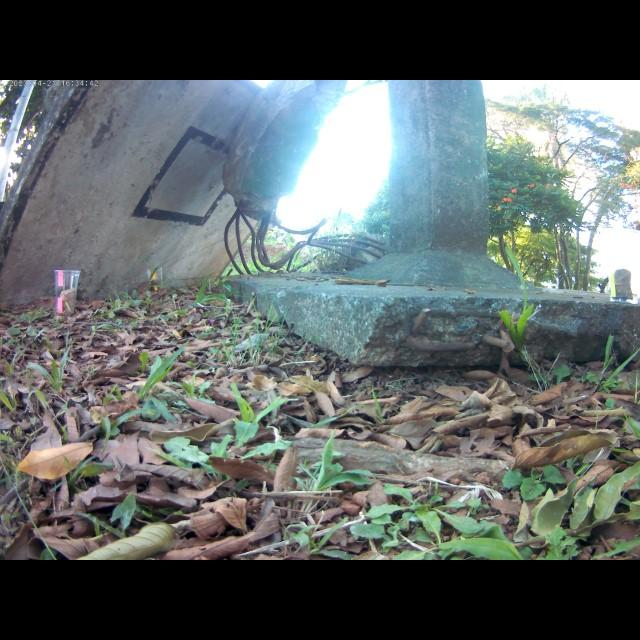detrito: (224, 80, 640, 371)
